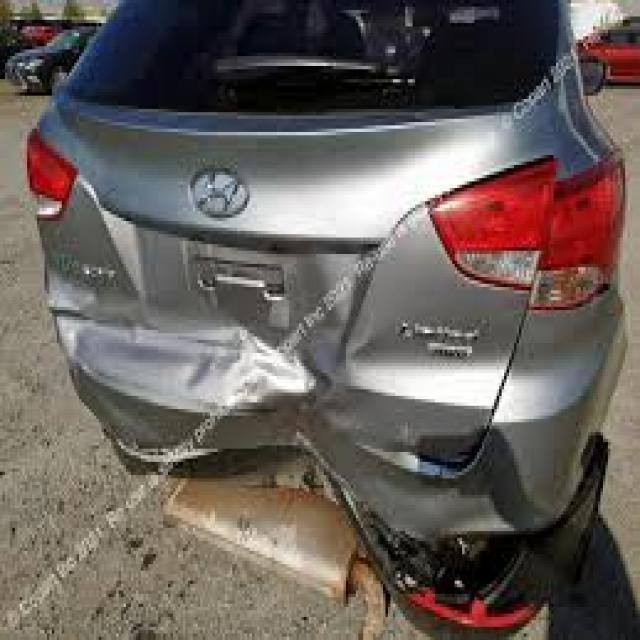damaged-trunk: (54, 4, 542, 444)
